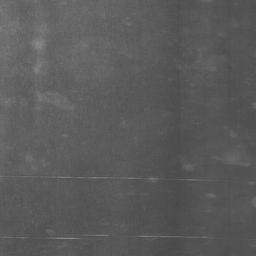Waist folding: (0, 160, 214, 184), (0, 228, 110, 241), (0, 62, 58, 78), (38, 90, 77, 111), (138, 233, 215, 240), (178, 64, 234, 73), (0, 25, 26, 36), (225, 162, 256, 168), (0, 95, 26, 100)
